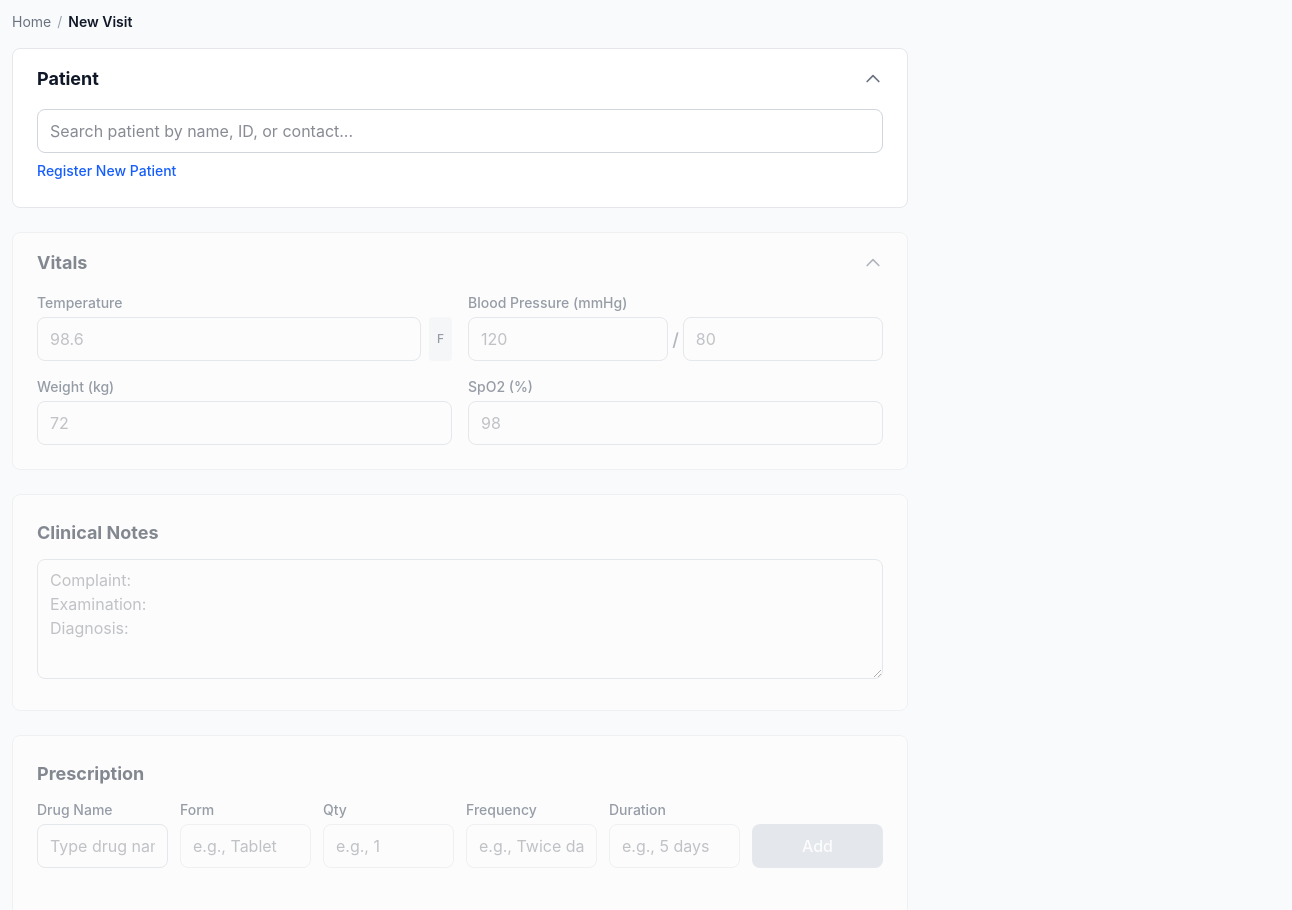
Test: NewVisitPage patient search keyboard navigation › Enter with highlighted patient selects that patient
Step 1. Type "Ahmed" into the field with placeholder "Search patient by name, ID, or contact..." → x=460, y=131, box x1=37 y1=109 x2=883 y2=153
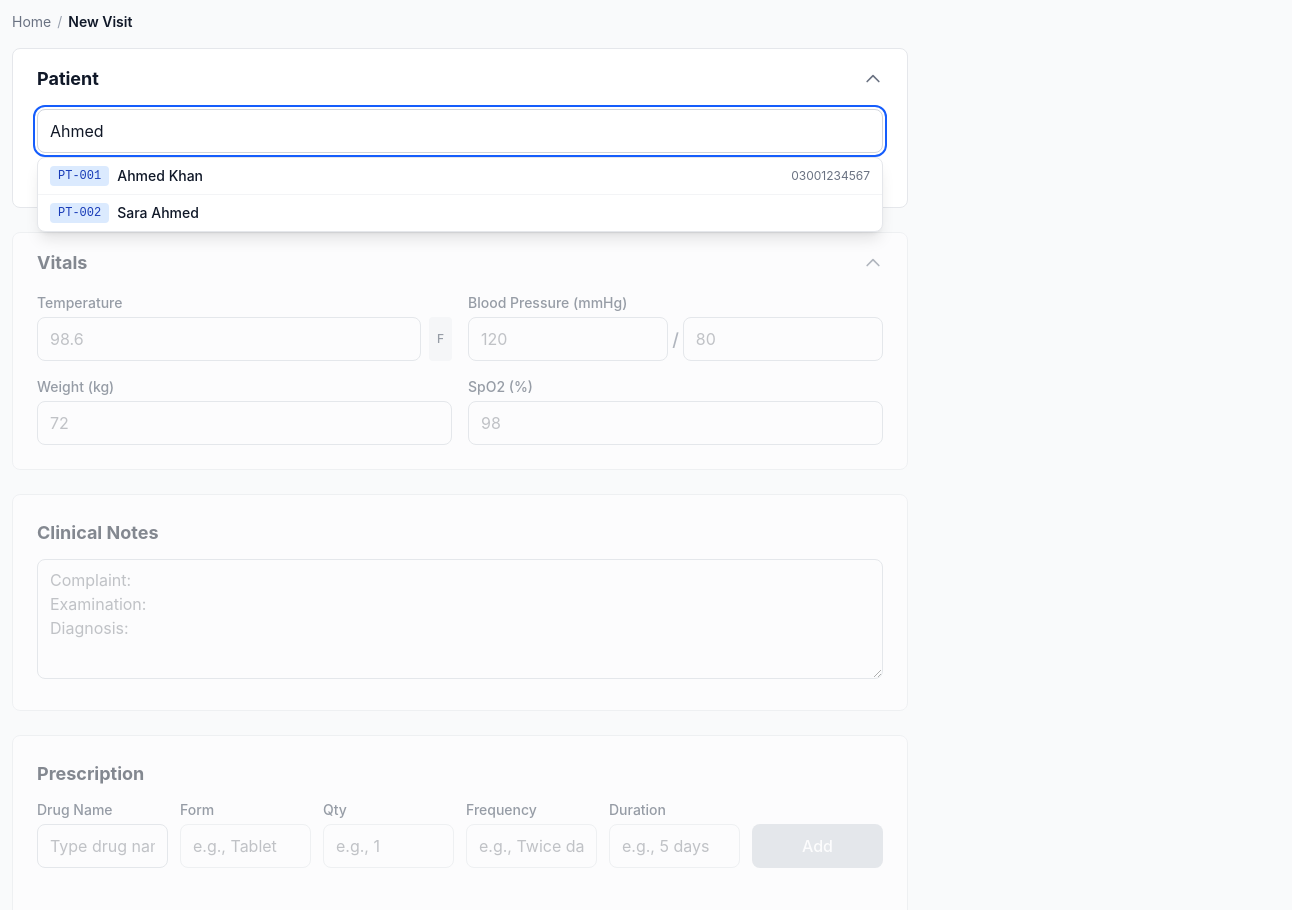
Check: the text "Ahmed Khan" is shown, box x1=117 y1=166 x2=203 y2=186
Step 2. Press Arrowdown
Step 3. Press Enter
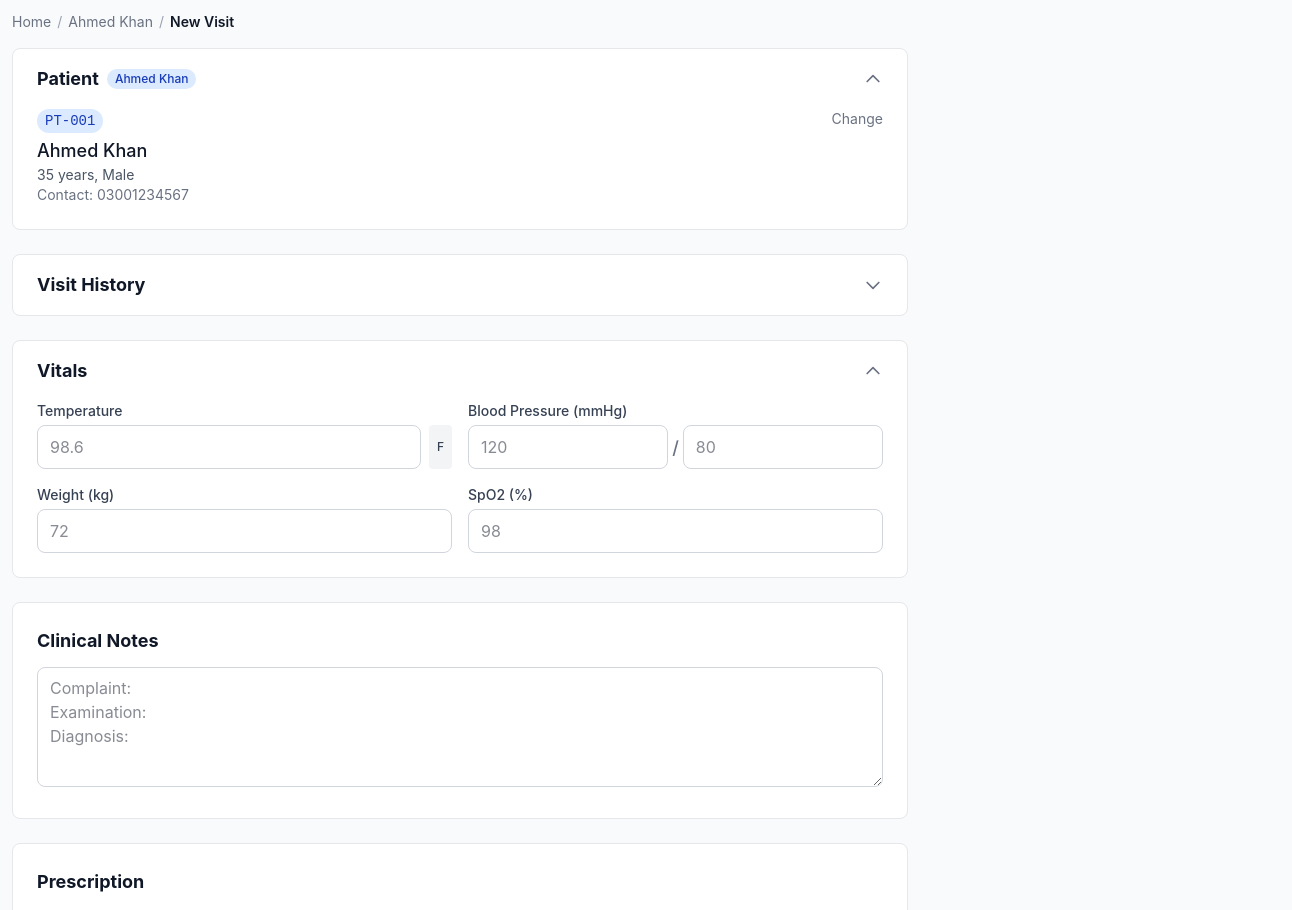
Check: the field with placeholder "search patient" is not shown
Check: the link "Ahmed Khan" is shown, box x1=68 y1=12 x2=153 y2=32
